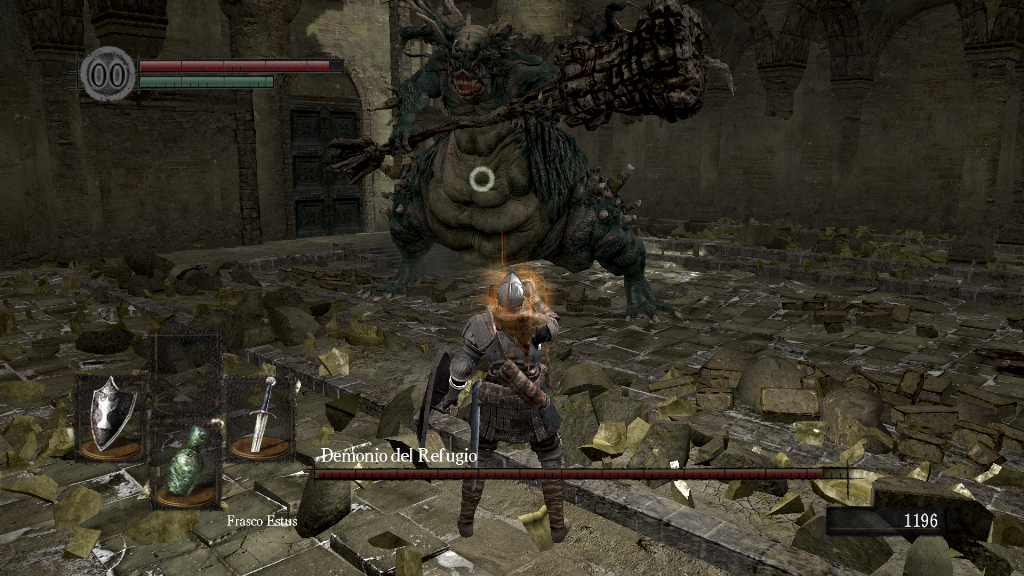asylumDemon: (327, 3, 721, 330)
bossHP: (314, 469, 847, 479)
health: (138, 58, 343, 71)
humanity: (80, 45, 136, 102)
player: (415, 269, 574, 544)
souls: (825, 506, 945, 536)
stamina: (138, 74, 274, 88)
